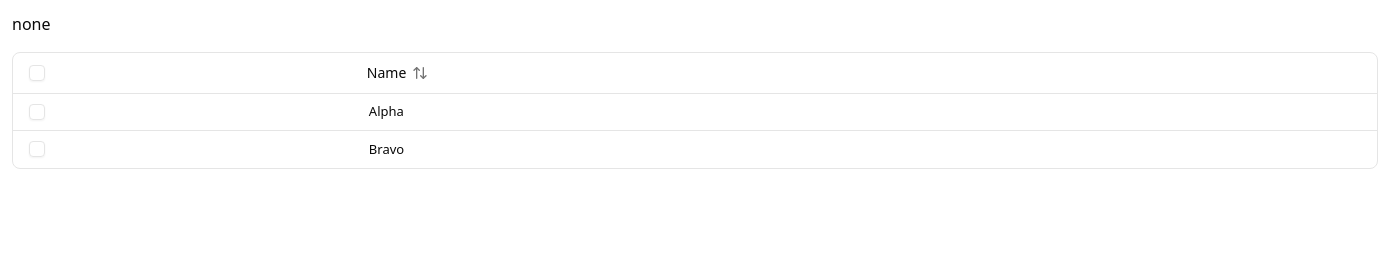
Test case: DataTable › supports controlled manual sorting and clears selection when sort state changes
Click the checkbox named "Select row" in the row of "Alpha" at [37, 112], box [29,104,45,120]
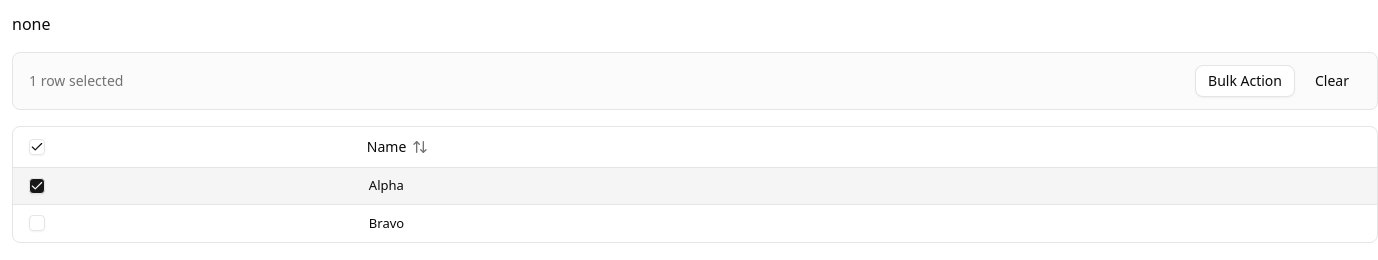
Expected: the text "1 row selected" is shown, [29,71,123,91]
Click the button "Name" at [398, 147], box [357,131,438,163]
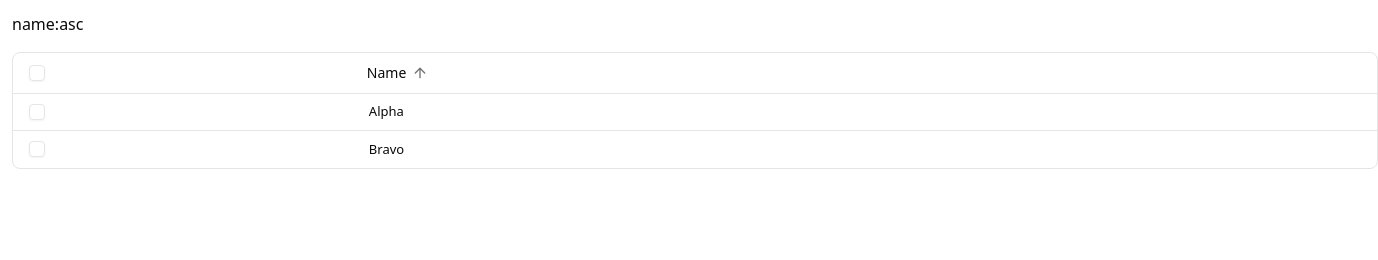
Expected: the text with test id "sorting-state" reads "name:asc", [12,13,84,35]
Expected: the text "1 row selected" is gone
